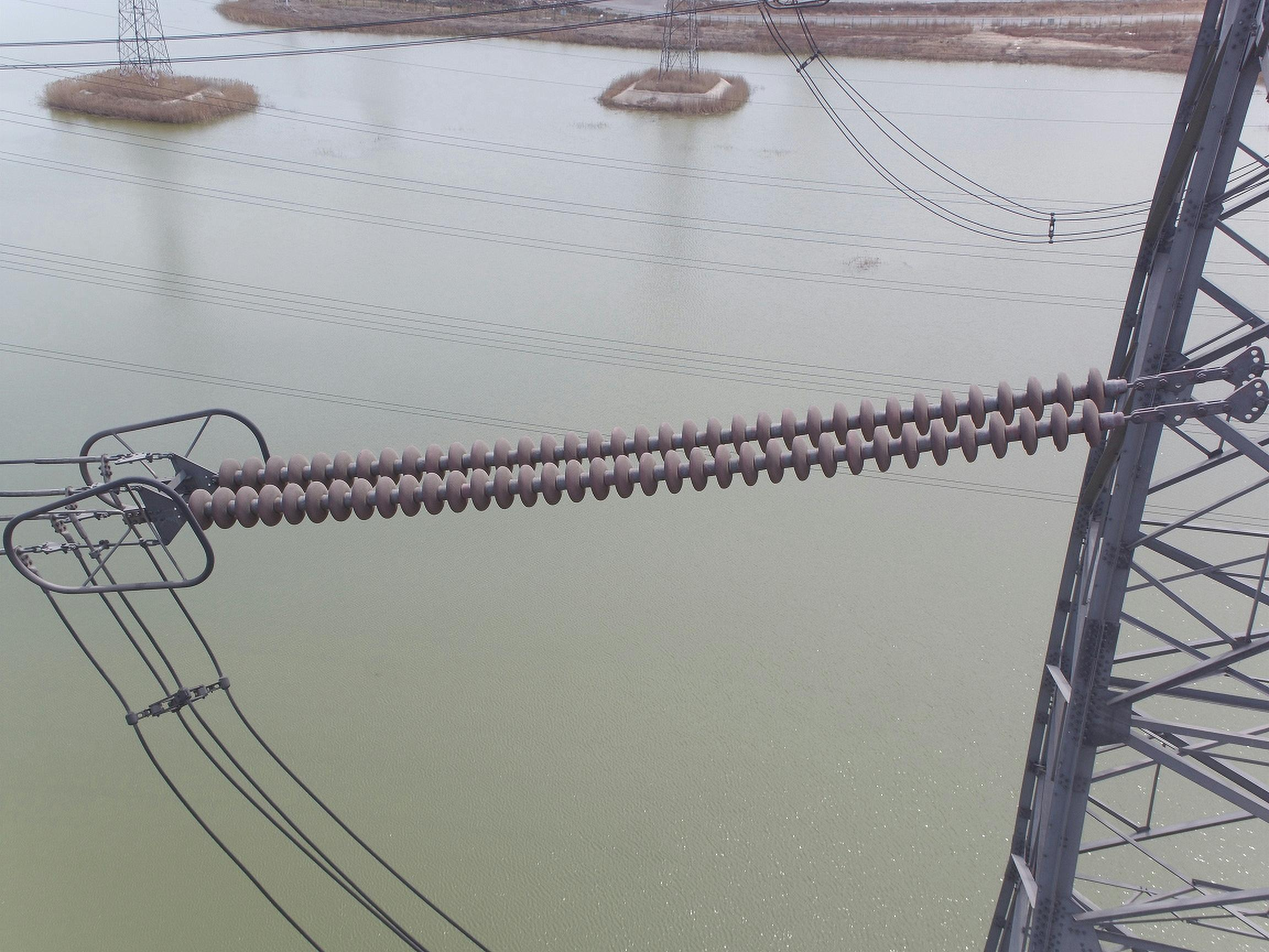insulator: (180, 364, 1111, 537)
